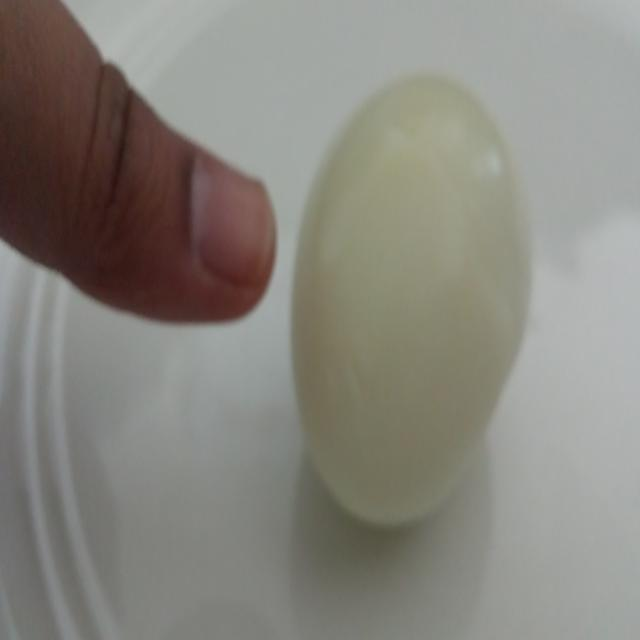egg: (289, 59, 536, 554)
